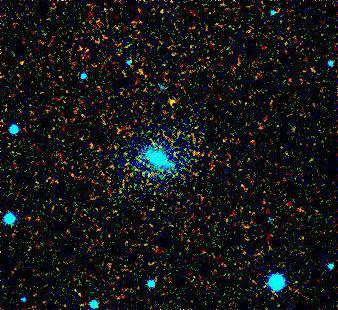star: (162, 80, 192, 110)
